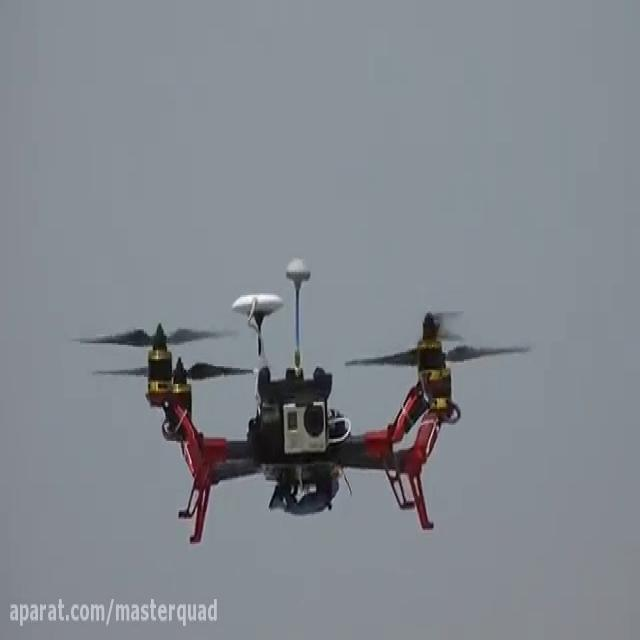drone: (60, 254, 539, 548)
